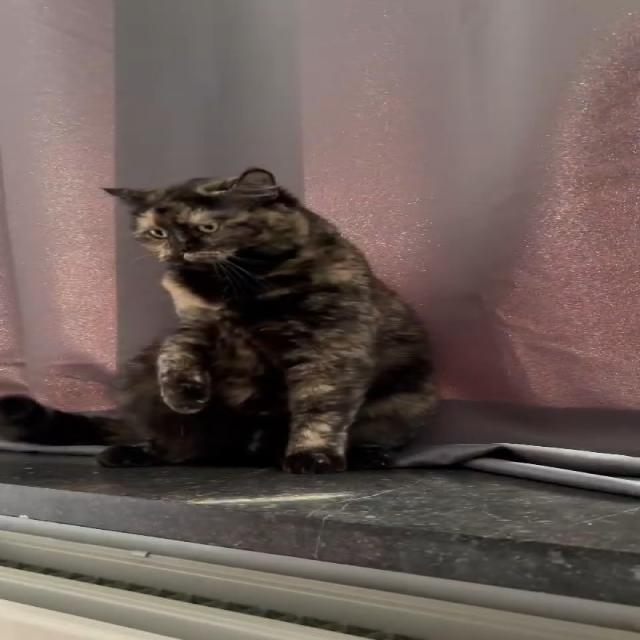authorized: (95, 166, 441, 475)
